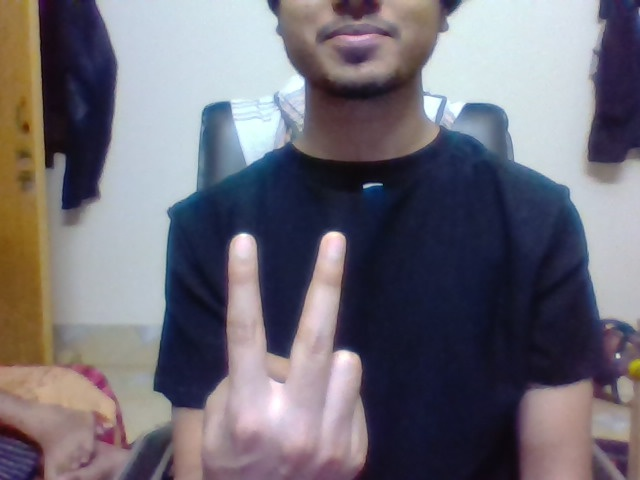V: (225, 224, 350, 370)
